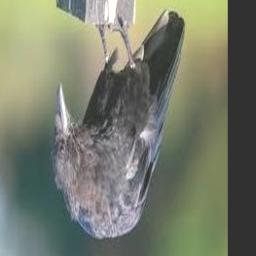Crow: (53, 9, 186, 239)
